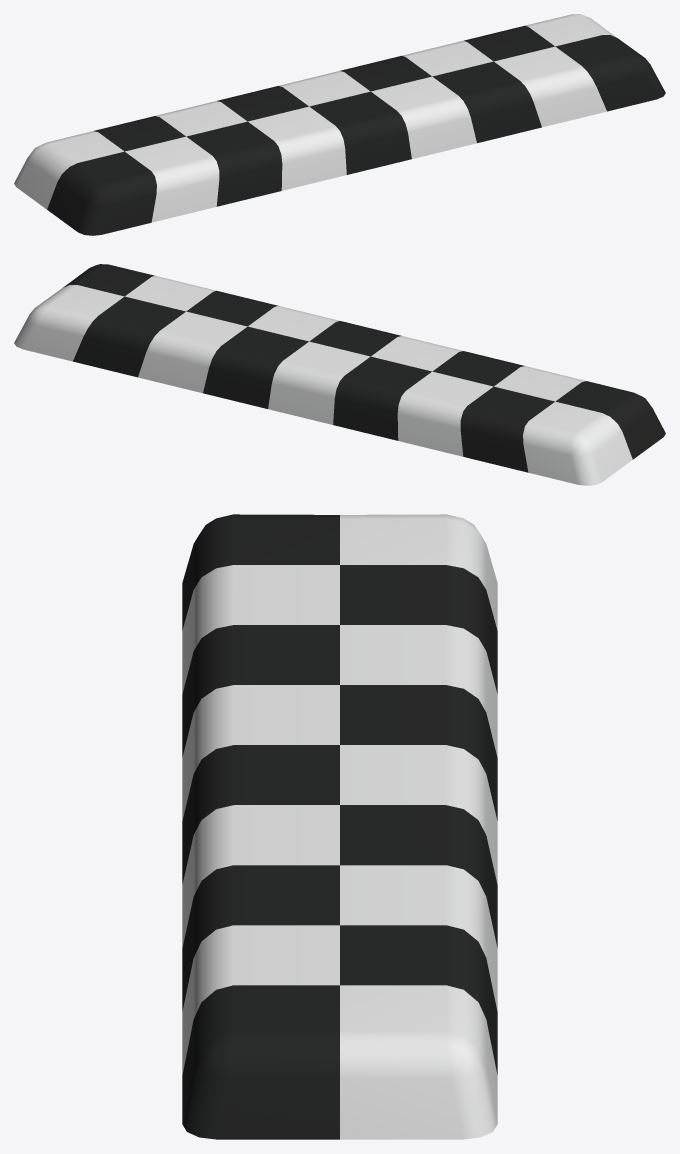
File: finish_001.fbx
The picture shows the model from 3 angles, top to bottom: view 1: azimuth 30°, elevation 25°; view 2: azimuth 150°, elevation 25°; view 3: azimuth 270°, elevation 25°; orthographic projection. The views are drawn at different scales.
Visible parts, largest first — view 1: finish_001; view 2: finish_001; view 3: finish_001.
Part boxes in pixels (left/top/right/bottom): finish_001: left=14, top=14, right=665, bottom=235; finish_001: left=14, top=264, right=665, bottom=485; finish_001: left=182, top=514, right=497, bottom=1139.
Size of the model in its own units: 377 by 87.95 by 24.17.
